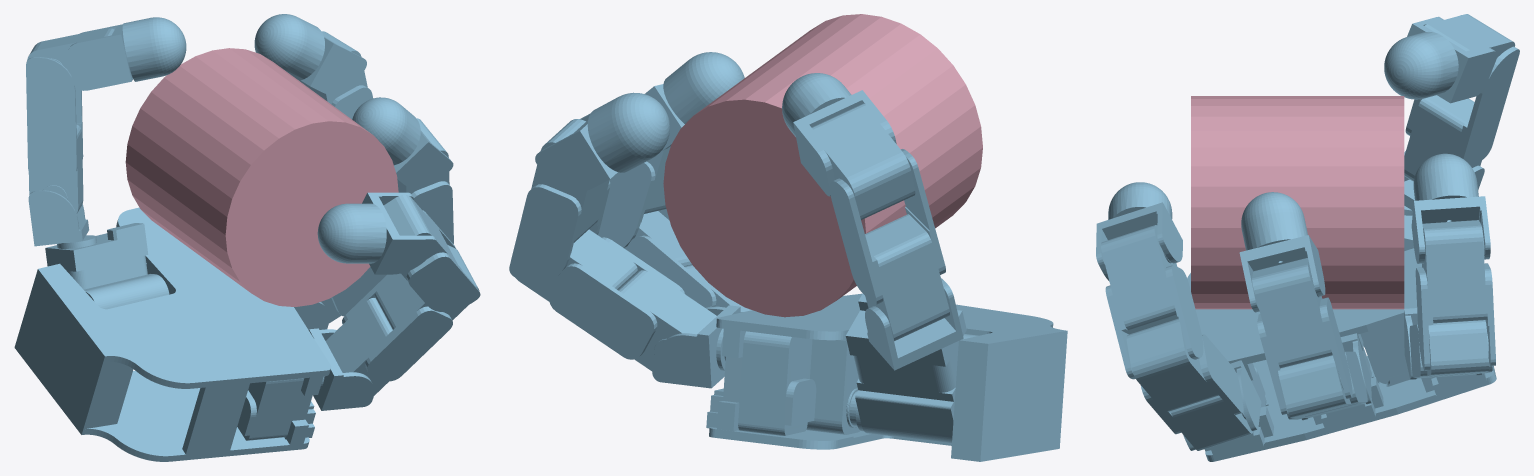
3 views of the same model, side by side, from view 1: azimuth 30°, elevation 25°; view 2: azimuth 150°, elevation 25°; view 3: azimuth 270°, elevation 25° (orthographic). The views are drawn at different scales.
Parts seen in each view (by area): view 1: world; view 2: world; view 3: world.
Boxes of the visible parts, x1=… form: world: x1=14, y1=14, x2=480, y2=461; world: x1=509, y1=14, x2=1067, y2=461; world: x1=1096, y1=14, x2=1519, y2=461.
Size of the model in its own units: 0.1736 by 0.1634 by 0.159.
